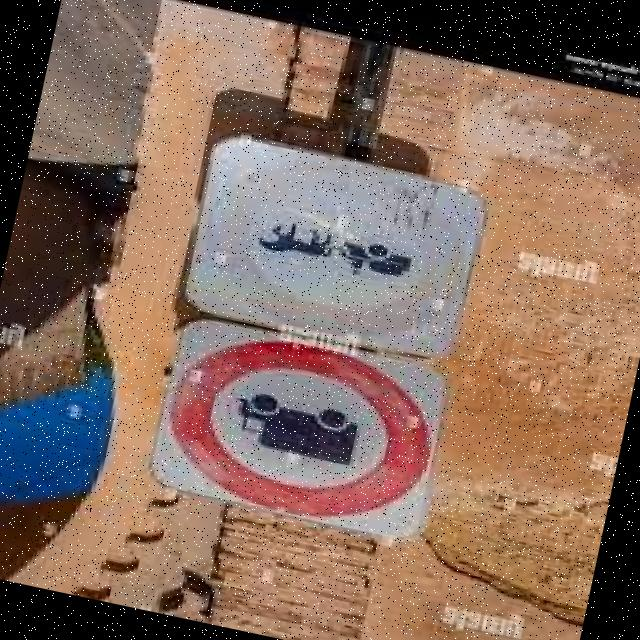do_not_enter: (136, 319, 447, 548)
